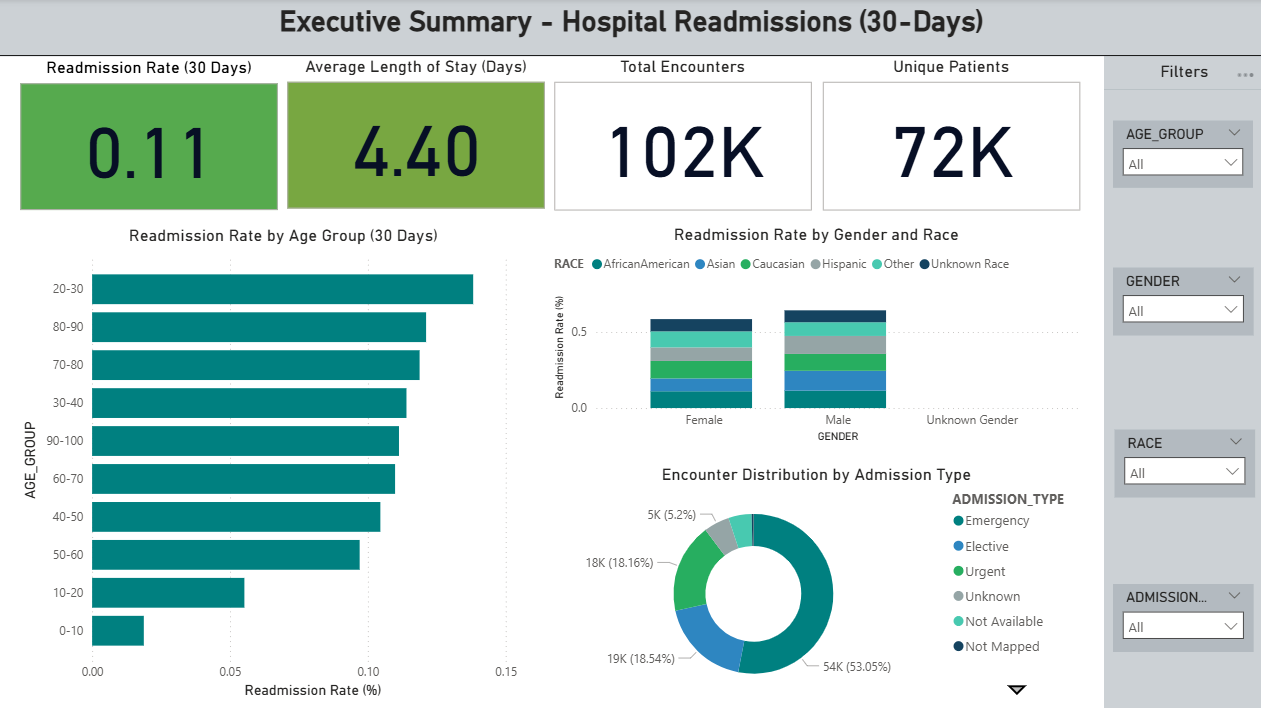

This screenshot's page, from the dashboard's own definition file:
{"tool":"powerbi","page":{"name":"Executive Summary","canvas":[1280,720],"ordinal":0},"visuals":[{"type":"cardVisual","title":"Readmission Rate (30 Days)","fields":{"Data":["FACT_VISITS.Readmission Rate (%)"]},"box":[17.9,58.6,270,159.4],"z":0},{"type":"cardVisual","title":"Total Encounters","fields":{"Data":["DIM_ADMISSION.Total Encounters"]},"box":[557.9,56.9,270,161],"z":1000},{"type":"cardVisual","title":"Average Length of Stay (Days)","fields":{"Data":["DIM_ADMISSION.Avg Stay (Days)"]},"box":[287.9,56.9,270,159.4],"z":2000},{"type":"cardVisual","title":"Unique Patients","fields":{"Data":["DIM_ADMISSION.Total Patients"]},"box":[827.9,56.9,270,161],"z":3000},{"type":"clusteredBarChart","title":"Readmission Rate  by Age Group (30 Days)","fields":{"Category":["DIM_PATIENTS.AGE_GROUP"],"Y":["FACT_VISITS.Readmission Rate (%)"]},"box":[20,228.3,538.3,481.7],"z":4000},{"type":"columnChart","title":"Readmission Rate by Gender and Race","fields":{"Category":["DIM_PATIENTS.GENDER"],"Series":["DIM_PATIENTS.RACE"],"Y":["FACT_VISITS.Readmission Rate (%)"]},"box":[557.9,227.7,540,224.5],"z":5000},{"type":"donutChart","title":"Encounter Distribution by Admission Type","fields":{"Category":["DIM_ADMISSION.ADMISSION_TYPE"],"Y":["FACT_VISITS.Total Encounters"]},"box":[557.9,470.1,540,240.7],"z":6000},{"type":"textbox","box":[0,0,1280,58],"z":7000},{"type":"shape","box":[1117.4,91.1,162.7,629.5],"z":8000},{"type":"slicer","fields":{"Values":["DIM_PATIENTS.AGE_GROUP"]},"box":[1127.2,122,141.5,68.3],"z":9000},{"type":"slicer","fields":{"Values":["DIM_ADMISSION.ADMISSION_TYPE"]},"box":[1126.7,590,141.7,68.3],"z":10000},{"type":"slicer","fields":{"Values":["DIM_PATIENTS.GENDER"]},"box":[1126.7,271.7,141.7,68.3],"z":11000},{"type":"slicer","fields":{"Values":["DIM_PATIENTS.RACE"]},"box":[1128.3,435,141.7,68.3],"z":12000},{"type":"textbox","box":[1117.4,56.9,162.7,34.2],"z":13000}]}

Visuals, with their boxes in screenshot pixels (x1, y1, x2, y2), scaled from the page's 1280x720 canvas onto the 1261x708 screenshot:
"Readmission Rate (30 Days)" cardVisual: (x1=18, y1=58, x2=284, y2=214)
"Total Encounters" cardVisual: (x1=550, y1=56, x2=816, y2=214)
"Average Length of Stay (Days)" cardVisual: (x1=284, y1=56, x2=550, y2=213)
"Unique Patients" cardVisual: (x1=816, y1=56, x2=1082, y2=214)
"Readmission Rate  by Age Group (30 Days)" clusteredBarChart: (x1=20, y1=224, x2=550, y2=698)
"Readmission Rate by Gender and Race" columnChart: (x1=550, y1=224, x2=1082, y2=445)
"Encounter Distribution by Admission Type" donutChart: (x1=550, y1=462, x2=1082, y2=699)
textbox: (x1=0, y1=0, x2=1260, y2=57)
shape: (x1=1101, y1=90, x2=1260, y2=707)
slicer - DIM_PATIENTS.AGE_GROUP: (x1=1110, y1=120, x2=1250, y2=187)
slicer - DIM_ADMISSION.ADMISSION_TYPE: (x1=1110, y1=580, x2=1250, y2=647)
slicer - DIM_PATIENTS.GENDER: (x1=1110, y1=267, x2=1250, y2=334)
slicer - DIM_PATIENTS.RACE: (x1=1112, y1=428, x2=1251, y2=495)
textbox: (x1=1101, y1=56, x2=1260, y2=90)
